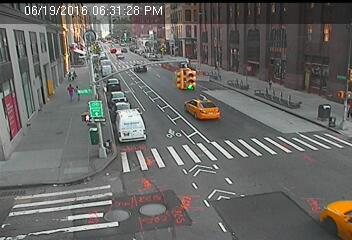neg: (89, 95, 110, 124), (75, 110, 91, 132), (128, 58, 144, 79), (97, 137, 110, 154), (84, 85, 92, 96), (158, 46, 166, 57)
pos: (62, 82, 77, 102), (71, 84, 84, 102)
